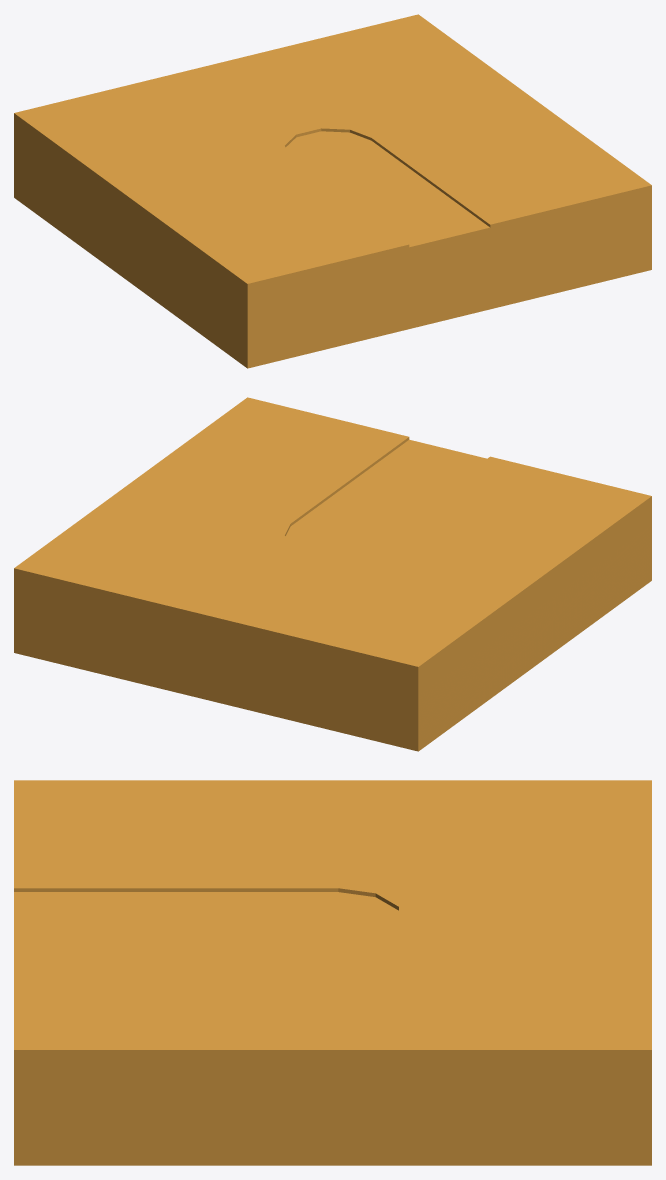
Rendered from tile-road-end.glb.
3 views of the same model, one above another, from view 1: azimuth 30°, elevation 25°; view 2: azimuth 150°, elevation 25°; view 3: azimuth 270°, elevation 25° (orthographic). The views are drawn at different scales.
Visible parts, largest first — view 1: tile-road-end; view 2: tile-road-end; view 3: tile-road-end.
Part boxes in pixels (x1,y1,x2,y2): tile-road-end: (14, 14, 651, 368); tile-road-end: (14, 397, 651, 751); tile-road-end: (14, 780, 651, 1165).
Size of the model in its own units: 30 by 6 by 30.
